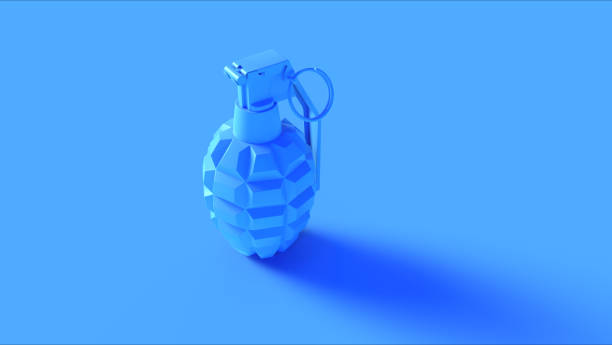e1: (199, 57, 335, 261)
